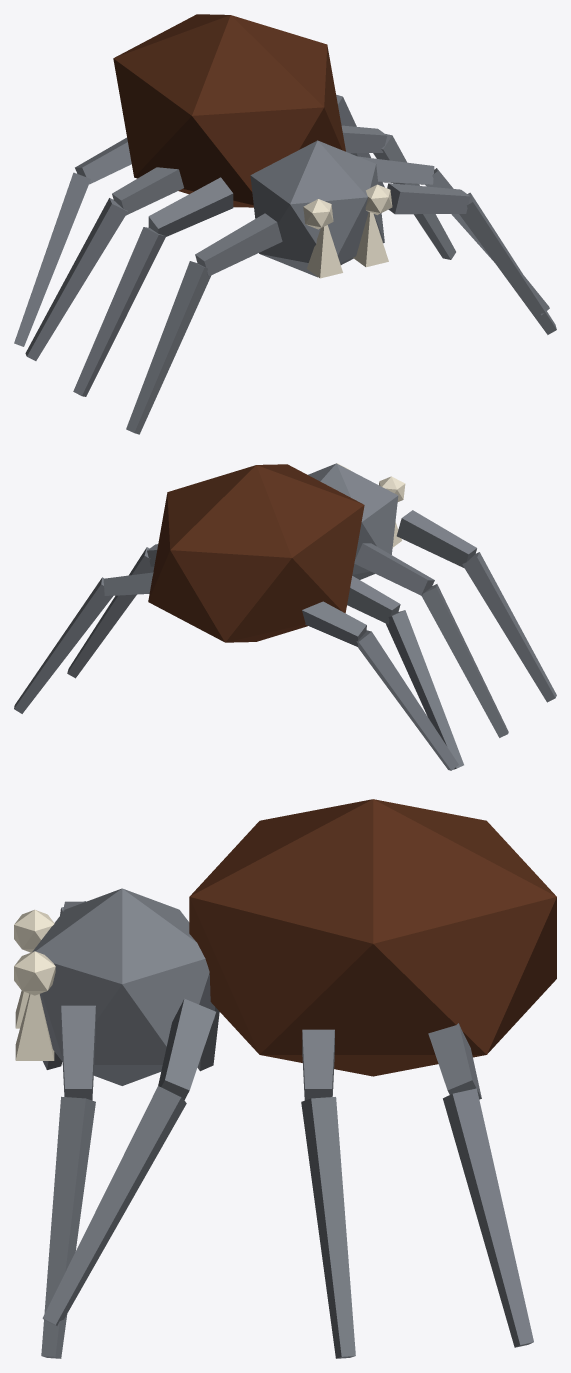
The model's file is npcpose_spider_walk_00.glb.
The picture shows the model from 3 angles, top to bottom: view 1: azimuth 30°, elevation 25°; view 2: azimuth 150°, elevation 25°; view 3: azimuth 270°, elevation 25°; orthographic projection. The views are drawn at different scales.
Visible parts, largest first — view 1: npcpose; view 2: npcpose; view 3: npcpose.
Part boxes in pixels (box(x1,y1,x2,y2)): npcpose: box(14, 14, 556, 434); npcpose: box(14, 463, 556, 770); npcpose: box(14, 799, 556, 1358).
Size of the model in its own units: 1.32 by 0.8419 by 0.9951.
